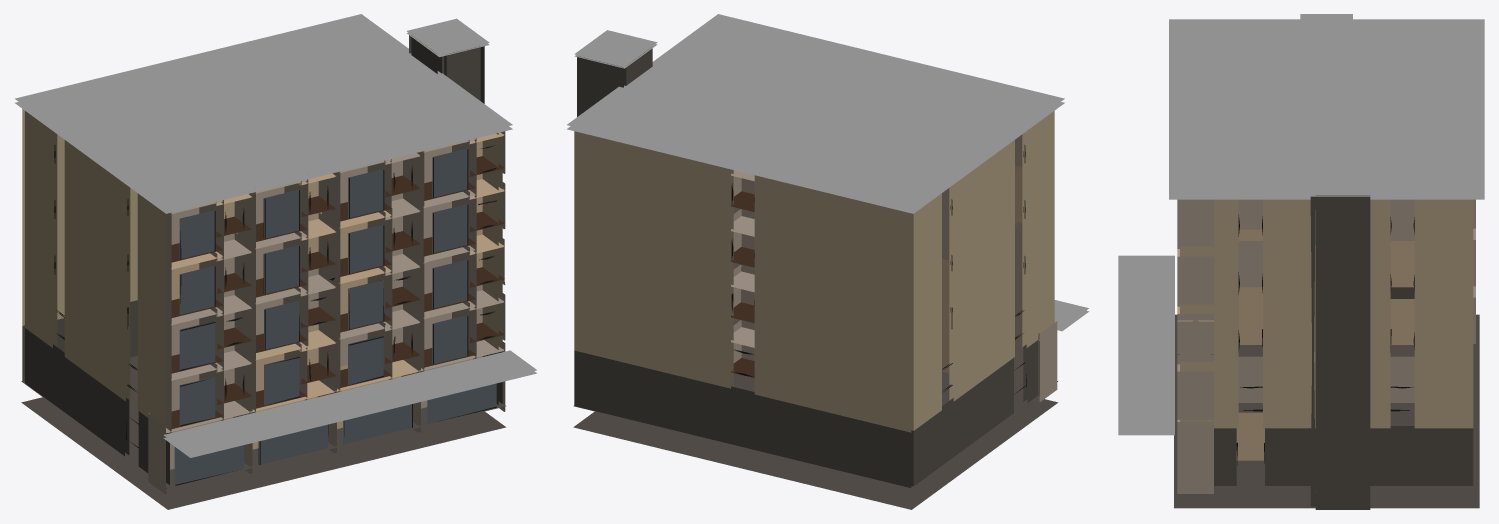
The model's file is apartment_20x15_5_far.glb.
The picture shows the model from 3 angles, left to right: view 1: azimuth 30°, elevation 25°; view 2: azimuth 150°, elevation 25°; view 3: azimuth 270°, elevation 25°; orthographic projection. The views are drawn at different scales.
Parts seen in each view (by area): view 1: apartment_20x15_5; view 2: apartment_20x15_5; view 3: apartment_20x15_5.
Boxes of the visible parts, <box> form: apartment_20x15_5: <box>15,14,536,509</box>; apartment_20x15_5: <box>567,14,1089,509</box>; apartment_20x15_5: <box>1118,14,1484,509</box>.
Size of the model in its own units: 23.2 by 19.2 by 18.1.
